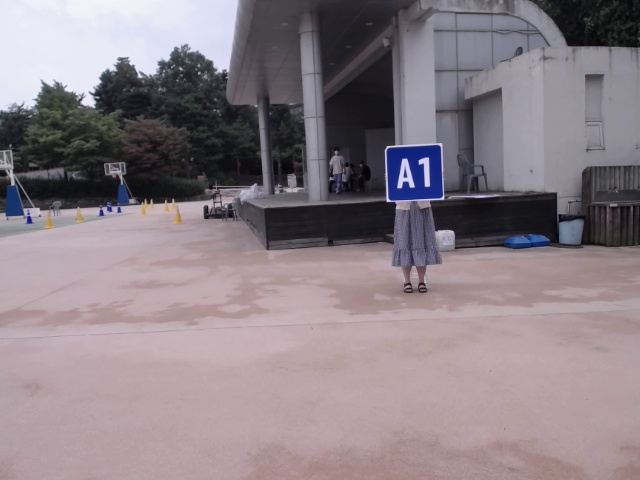delivery_a1: (385, 144, 444, 202)
